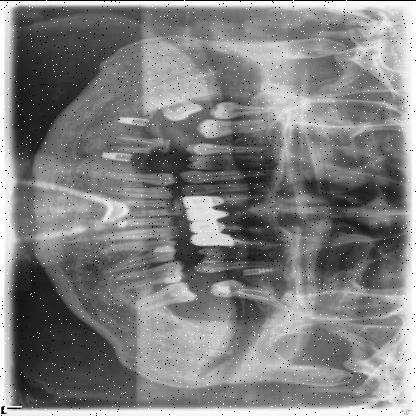Bicon: (100, 150, 138, 162), (113, 115, 152, 124), (240, 265, 274, 275)
